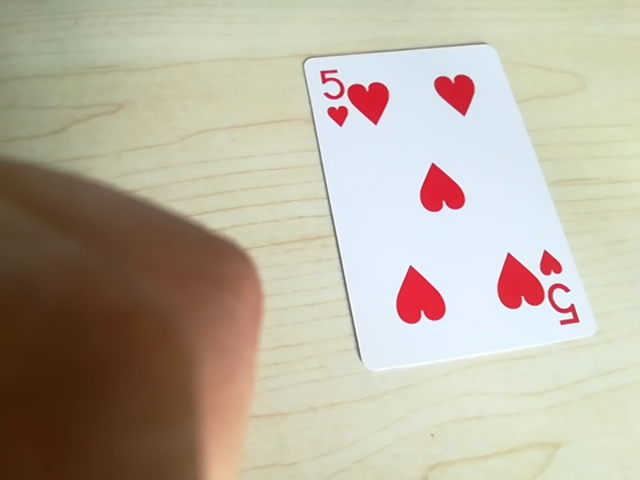hx 5: (541, 245, 578, 330), (317, 63, 362, 128)
